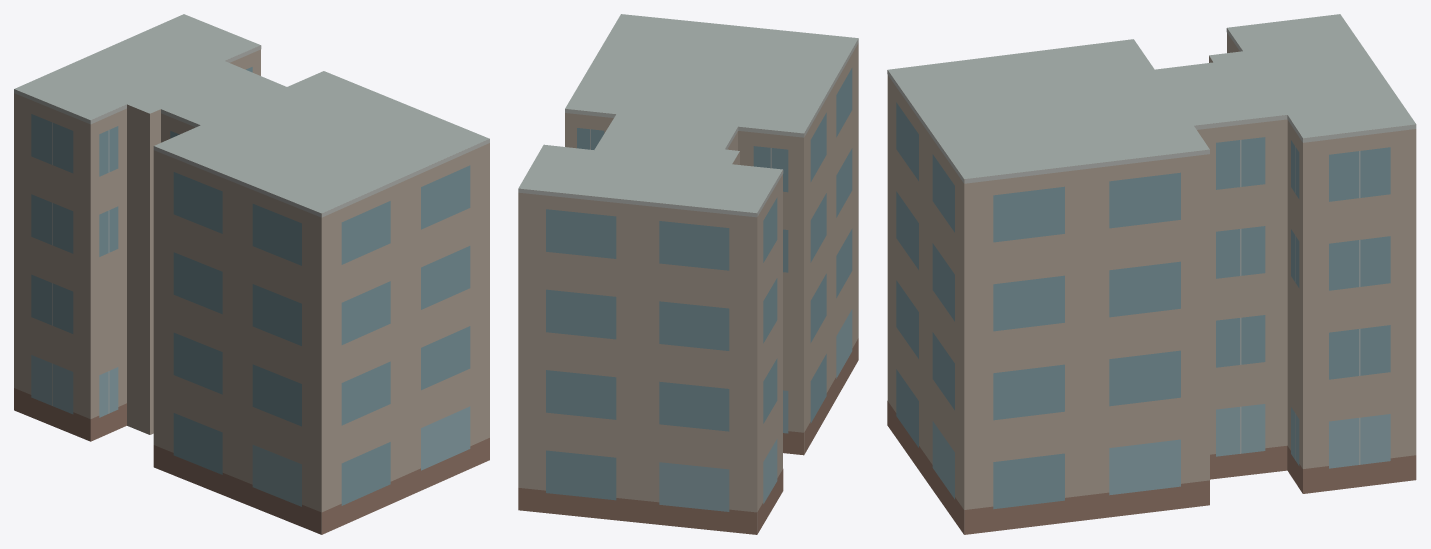
File: survey-upis-32979072.glb
3 views of the same model, side by side, from view 1: azimuth 30°, elevation 25°; view 2: azimuth 150°, elevation 25°; view 3: azimuth 270°, elevation 25° (orthographic). The views are drawn at different scales.
Visible parts, largest first — view 1: survey-upis-32979072.tmp; view 2: survey-upis-32979072.tmp; view 3: survey-upis-32979072.tmp.
Boxes of the visible parts, x1,y1,x2,y2 form: survey-upis-32979072.tmp: (14, 14, 489, 534); survey-upis-32979072.tmp: (518, 14, 858, 534); survey-upis-32979072.tmp: (887, 14, 1416, 534).
Size of the model in its own units: 18.9 by 18.96 by 25.56.
